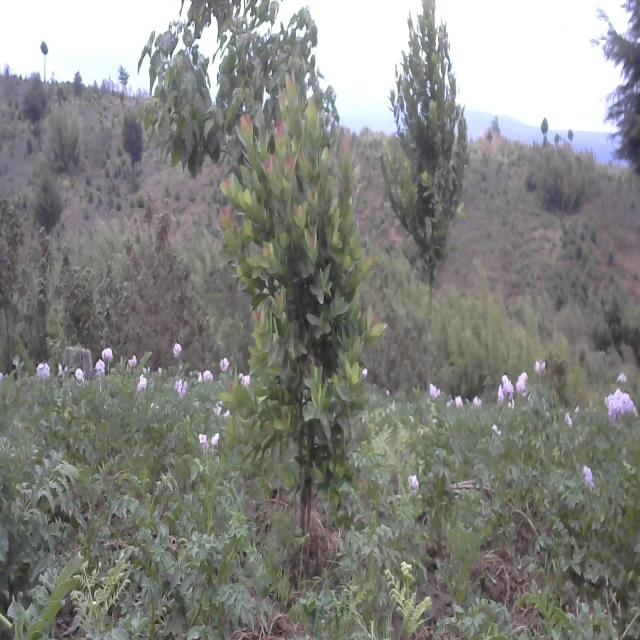cedrus: (591, 0, 640, 211), (45, 89, 86, 177), (31, 160, 63, 248), (19, 71, 45, 139), (122, 105, 144, 177), (33, 32, 53, 78), (114, 58, 132, 101)
other: (226, 65, 376, 542), (139, 1, 339, 180), (384, 0, 473, 289)
